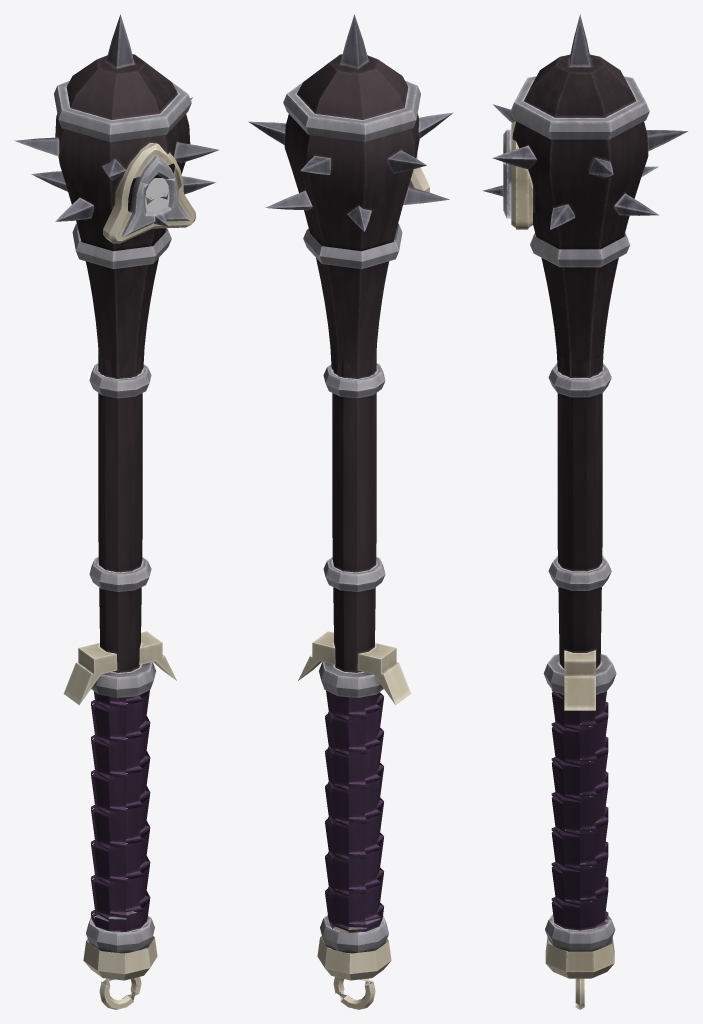
The model's file is Knucklebone Cudgel.fbx.
3 views of the same model, side by side, from view 1: azimuth 30°, elevation 25°; view 2: azimuth 150°, elevation 25°; view 3: azimuth 270°, elevation 25° (orthographic).
Visible parts, largest first — view 1: Knucklebone Cudgel_Body, Knucklebone Cudgel_Glow; view 2: Knucklebone Cudgel_Body; view 3: Knucklebone Cudgel_Body.
Part boxes in pixels (x1,y1,x2,y2): Knucklebone Cudgel_Body: (14,14,218,1009); Knucklebone Cudgel_Glow: (145,178,169,211); Knucklebone Cudgel_Body: (248,14,453,1009); Knucklebone Cudgel_Body: (482,14,688,1009).
Bounding box in the file's own units: 0.6581 × 3.49 × 0.6579.
